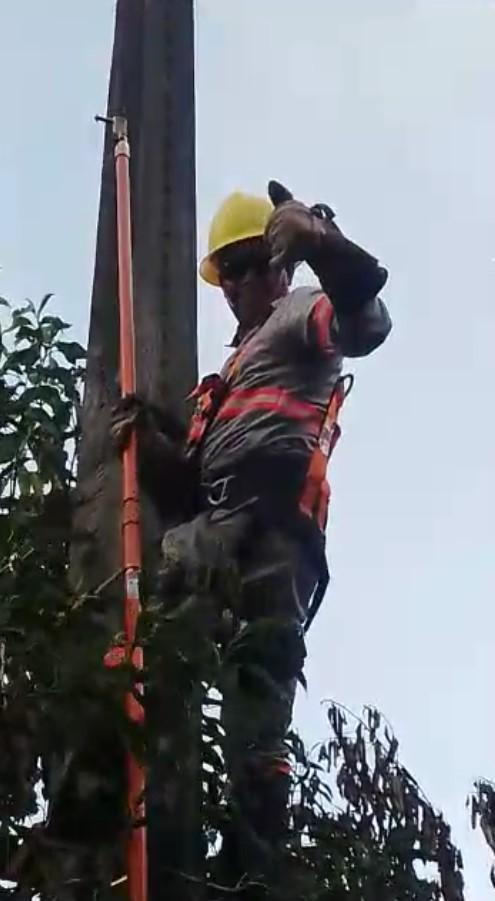Vara_Manobra: (108, 112, 151, 901)
